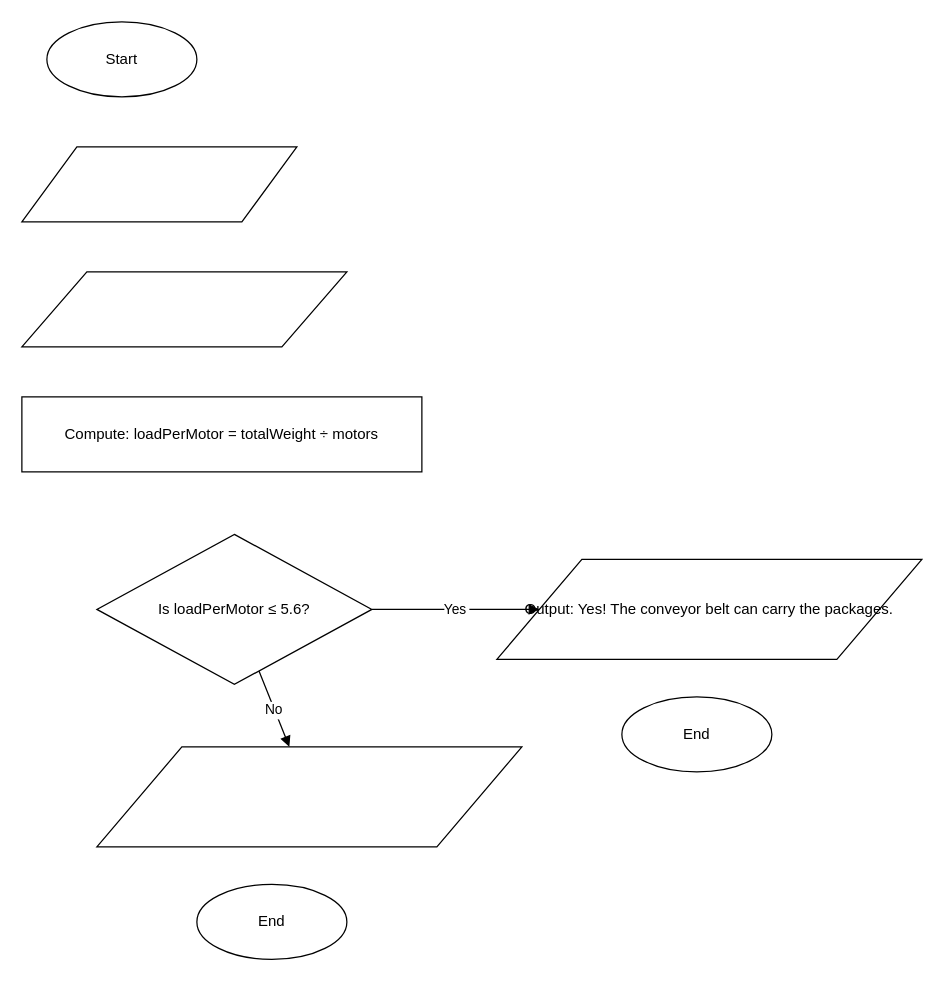
The diagram is 944 pixels wide and 981 high, and some of its shapes have lost their labels. Here are the shapes that lost their labels. From the top down, the centre of each, then its label:
At [159,184]: "Input: How many motors?".
At [184,309]: "Input: How many kg of packages?".
At [309,796]: "Output: No. The conveyor belt cannot carry the packages.".
